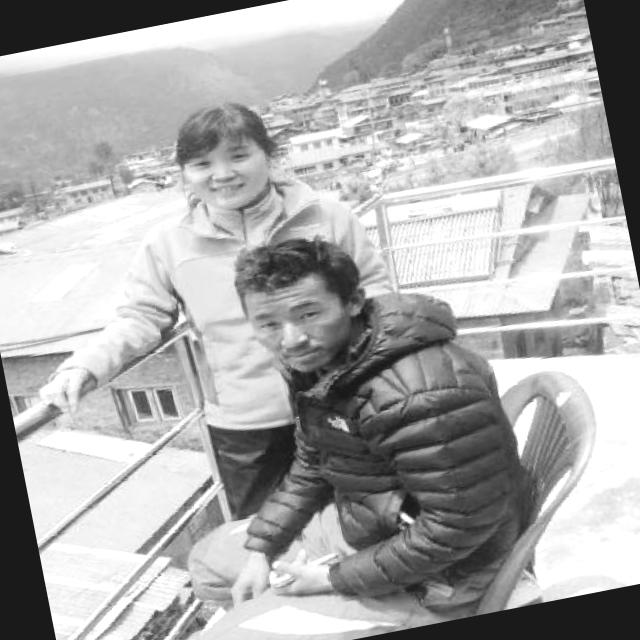Person: (187, 222, 532, 640)
